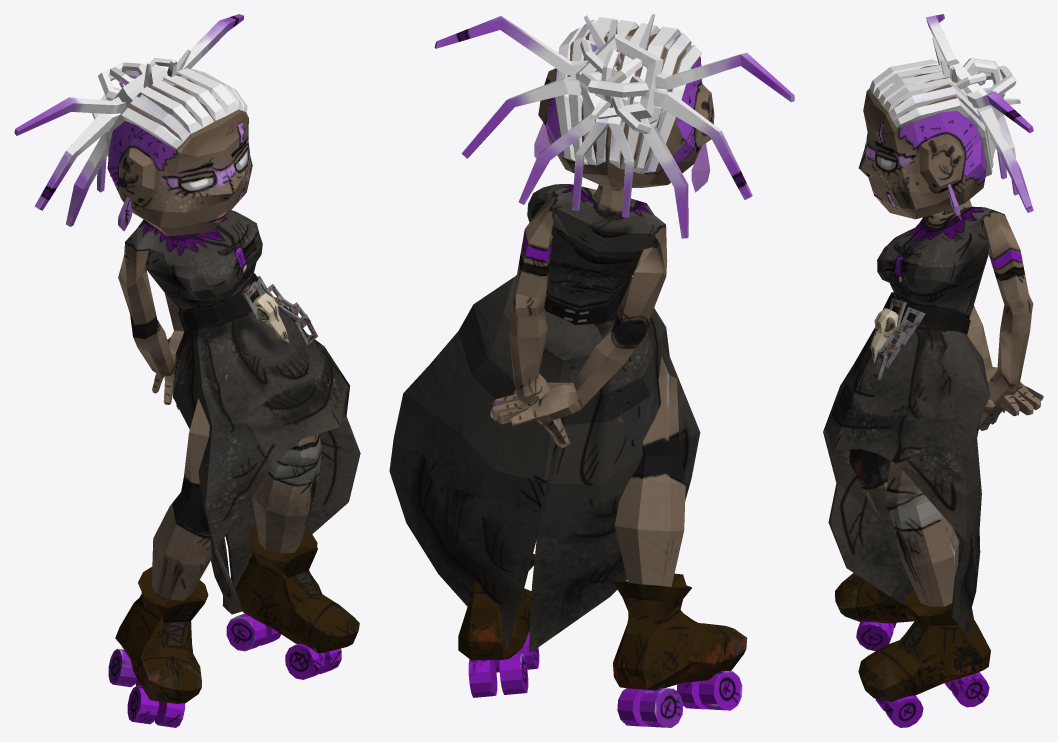
Rendered from bruja_000028.obj.
The picture shows the model from 3 angles, left to right: view 1: azimuth 30°, elevation 25°; view 2: azimuth 150°, elevation 25°; view 3: azimuth 270°, elevation 25°; orthographic projection. The views are drawn at different scales.
Parts seen in each view (by area): view 1: Bruja_Plane.001; view 2: Bruja_Plane.001; view 3: Bruja_Plane.001.
Part boxes in pixels (left/top/right/bottom): Bruja_Plane.001: left=14, top=14, right=360, bottom=727; Bruja_Plane.001: left=389, top=14, right=794, bottom=727; Bruja_Plane.001: left=823, top=14, right=1043, bottom=727.
Size of the model in its own units: 9.22 by 15.98 by 5.19.
